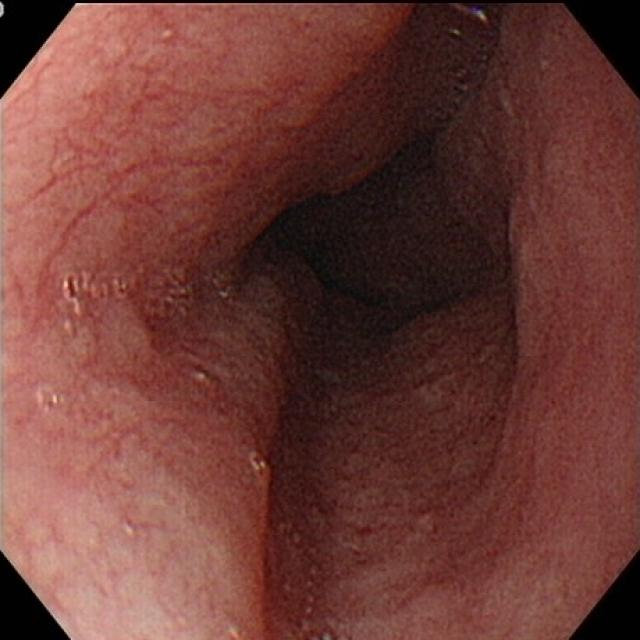E: (263, 144, 513, 365)
T: (61, 268, 130, 307)
